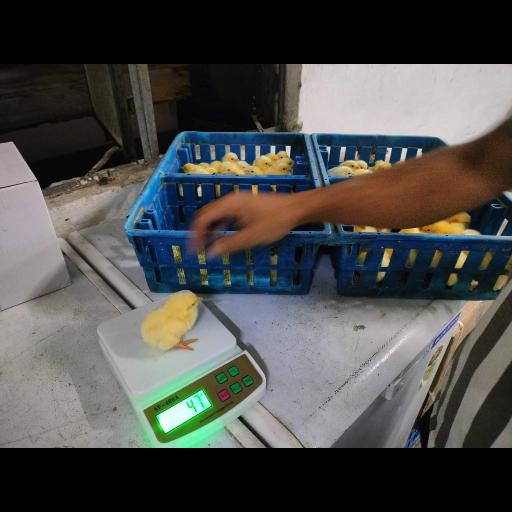chick: (140, 291, 204, 351)
